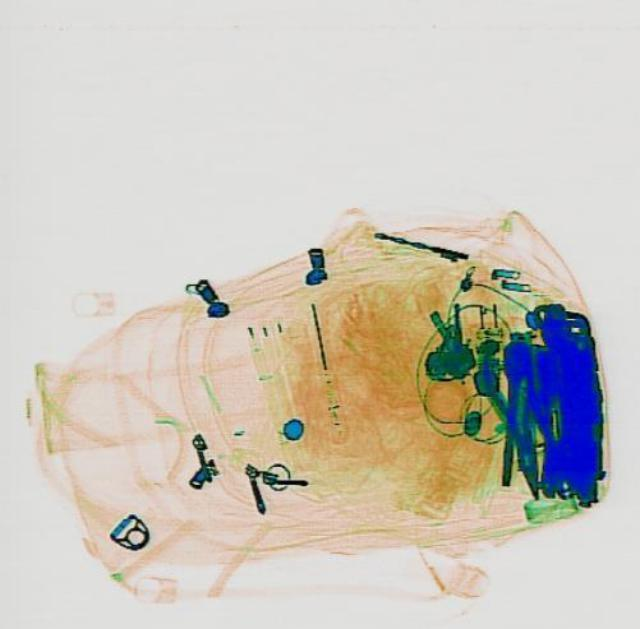Pliers: (473, 338, 561, 502), (486, 337, 558, 485)
